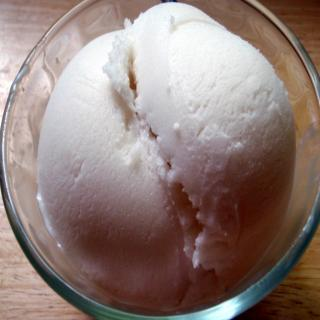Ice cream: (35, 0, 292, 315)
